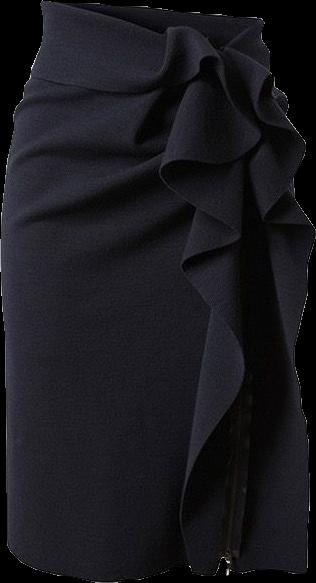Hemline: (6, 542, 308, 582)
Waistline: (38, 0, 268, 50), (25, 72, 284, 94)
